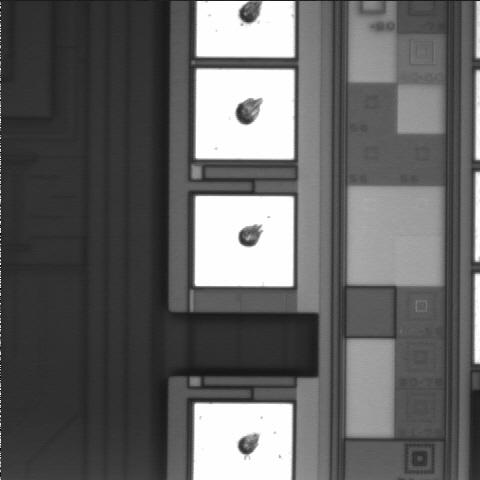pad: (195, 196, 294, 286), (196, 69, 294, 159)
